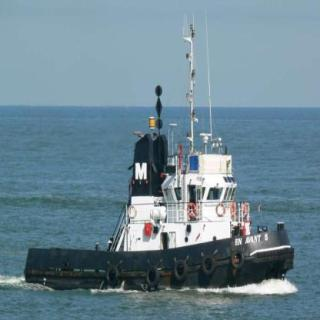Tug Boat: (58, 27, 291, 291)
